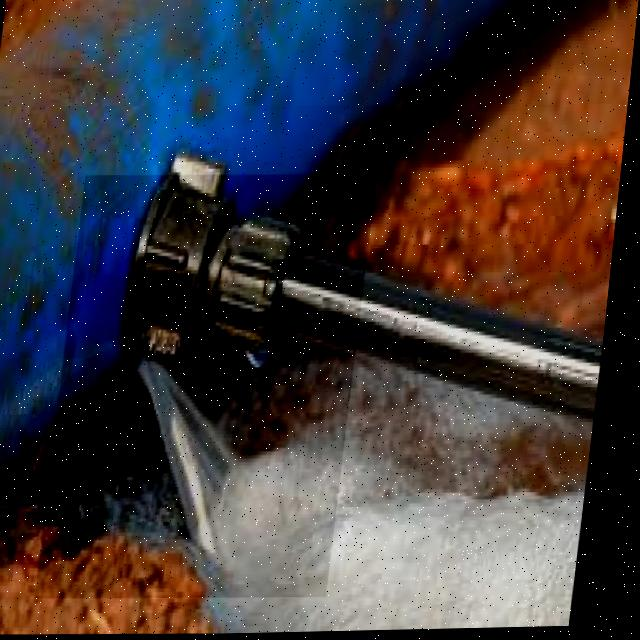corrosion: (119, 285, 238, 502), (72, 477, 94, 489)
